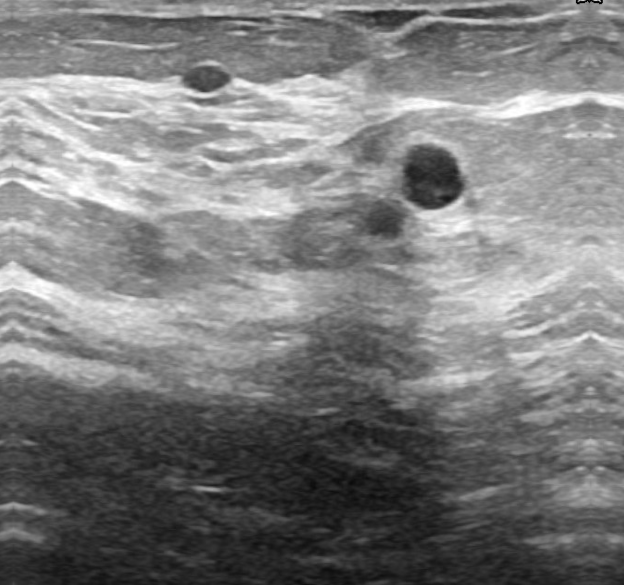Benign: (397, 135, 469, 215), (180, 60, 235, 102)
